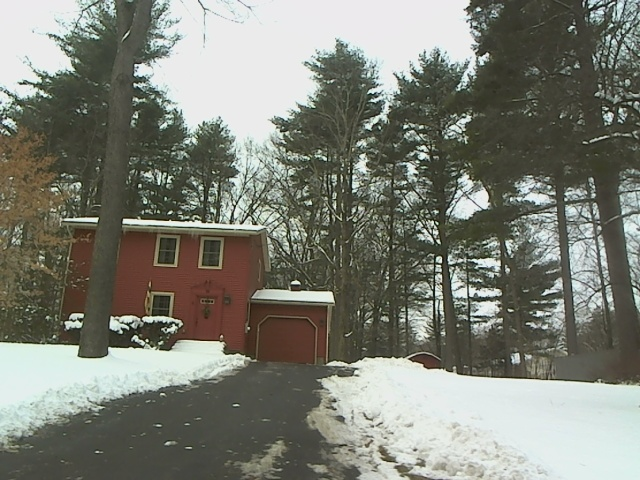Ploughed: (72, 361, 363, 475)
